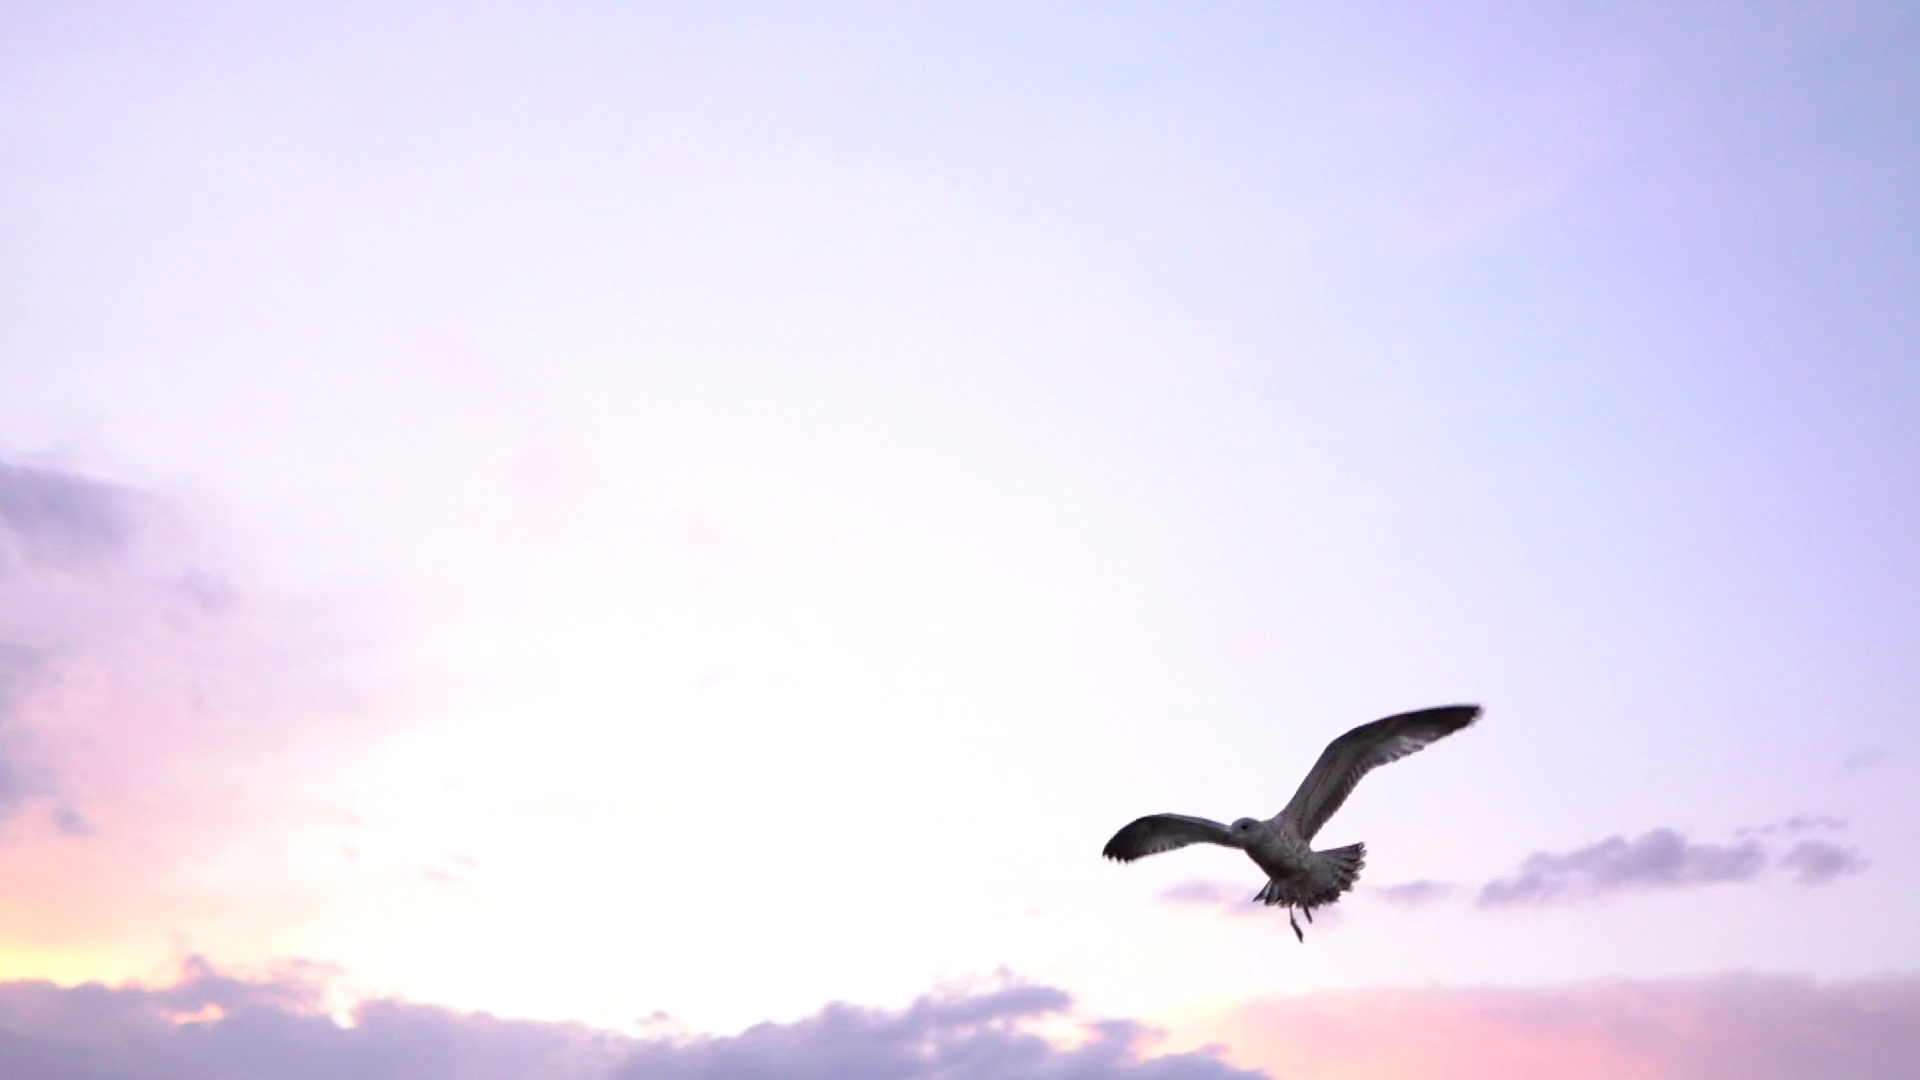bird: (1098, 704, 1480, 940)
